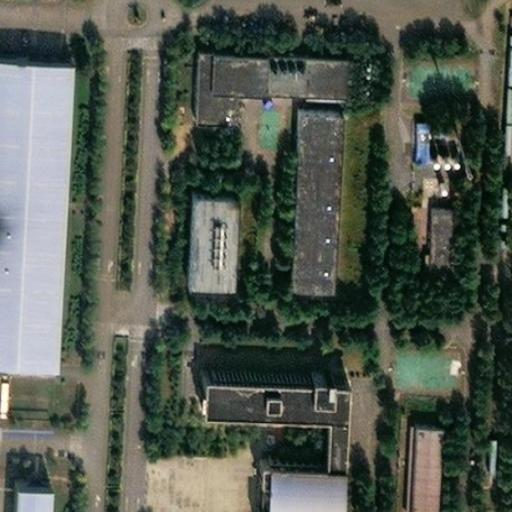building: (190, 353, 336, 512), (0, 33, 49, 343), (180, 32, 330, 105), (272, 91, 325, 268), (168, 169, 217, 267), (392, 407, 427, 501), (415, 194, 439, 258), (10, 479, 50, 512), (500, 53, 512, 158), (399, 104, 415, 146), (484, 434, 497, 473), (497, 182, 510, 216), (0, 373, 9, 411)
